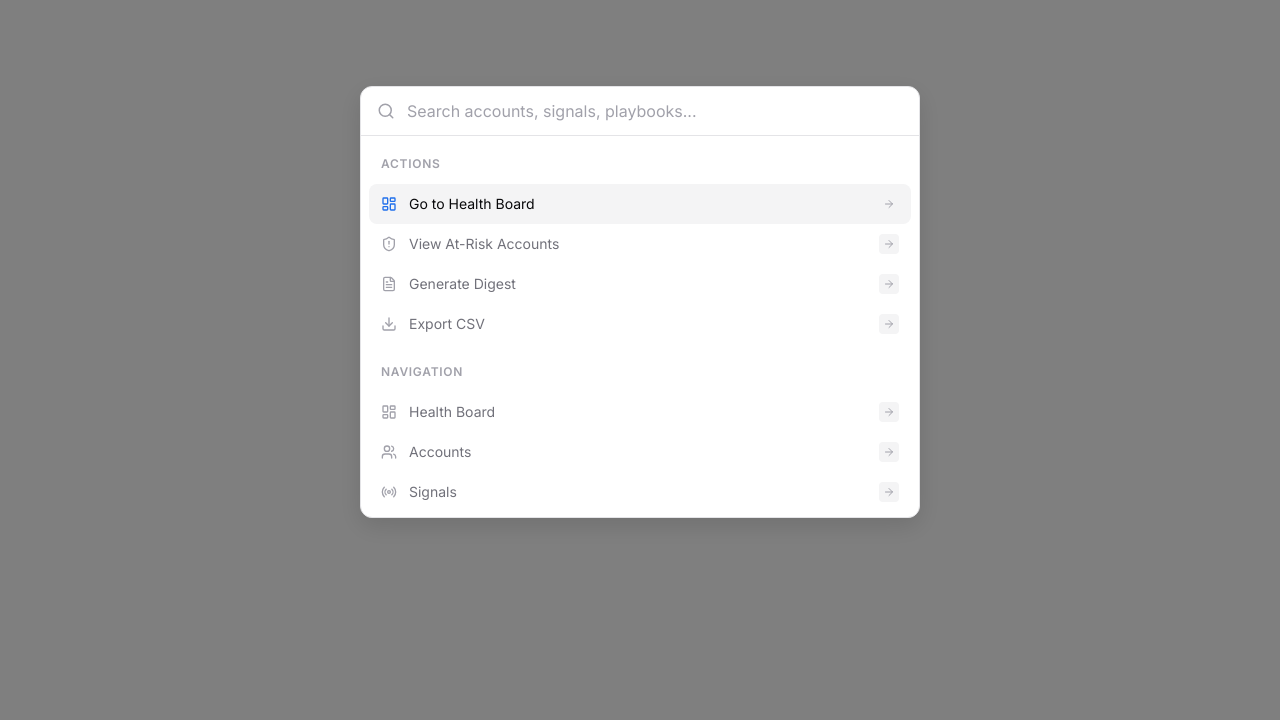
Test: CommandPalette › filters commands by the search query
The width and height of the screenshot is (1280, 720).
Type "export" into the field named "Command palette search" at [655, 111], box [407, 99, 903, 123]
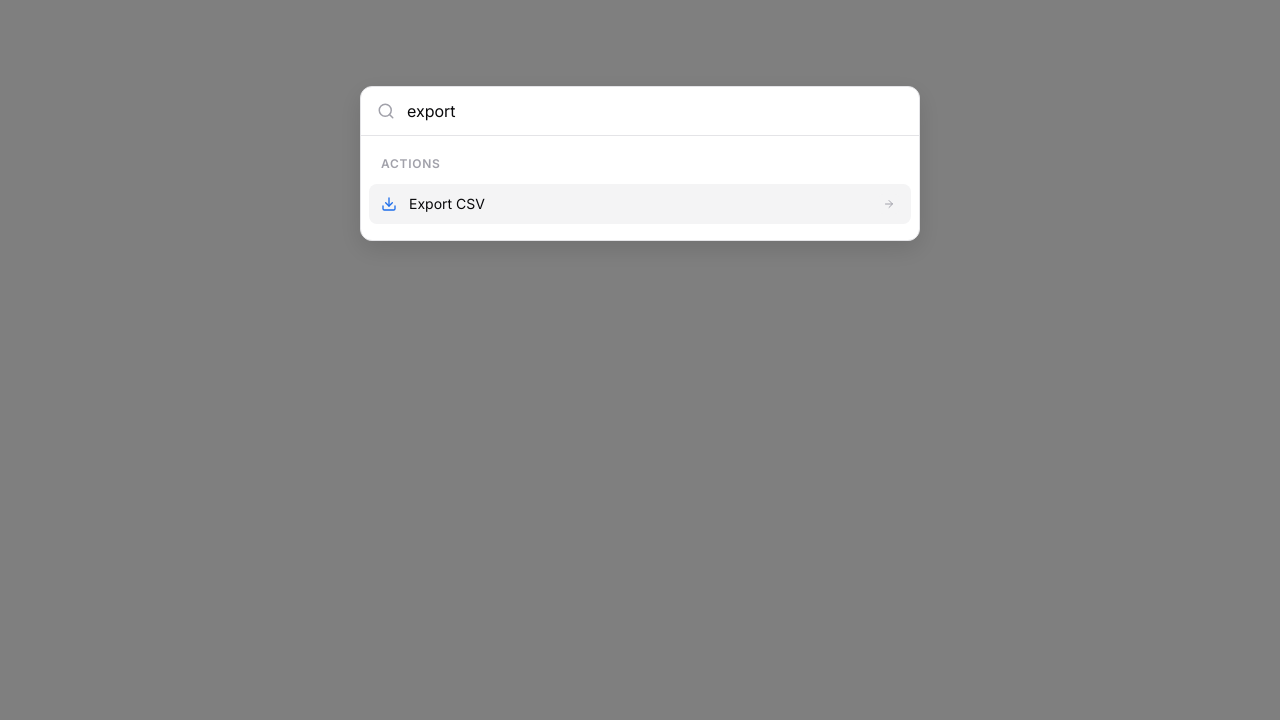
expect the text "Export CSV" is shown: met, box [409, 195, 485, 212]
expect the button "Go to Health Board" is gone: met
